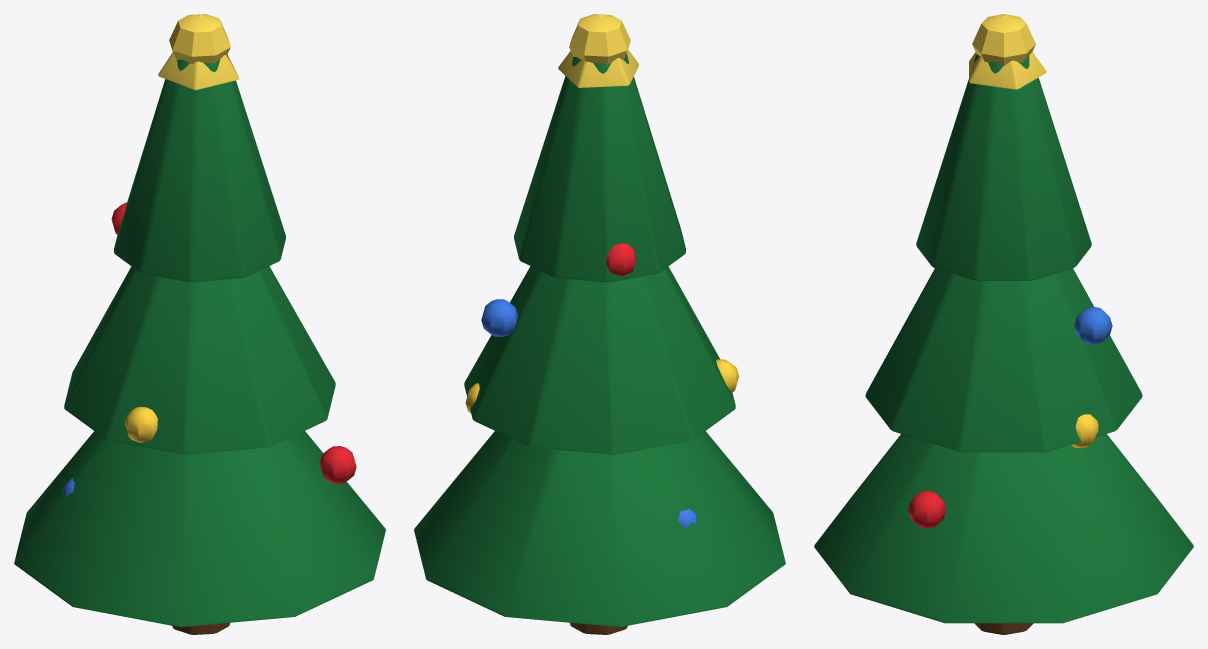
File: DecoTree.fbx
3 views of the same model, side by side, from view 1: azimuth 30°, elevation 25°; view 2: azimuth 150°, elevation 25°; view 3: azimuth 270°, elevation 25° (orthographic).
Parts seen in each view (by area): view 1: DecoTree; view 2: DecoTree; view 3: DecoTree.
Boxes of the visible parts, x1,y1,x2,y2 form: DecoTree: [14, 14, 385, 634]; DecoTree: [414, 14, 785, 634]; DecoTree: [814, 14, 1193, 634].
Bounding box in the file's own units: 283 × 525 × 297.
